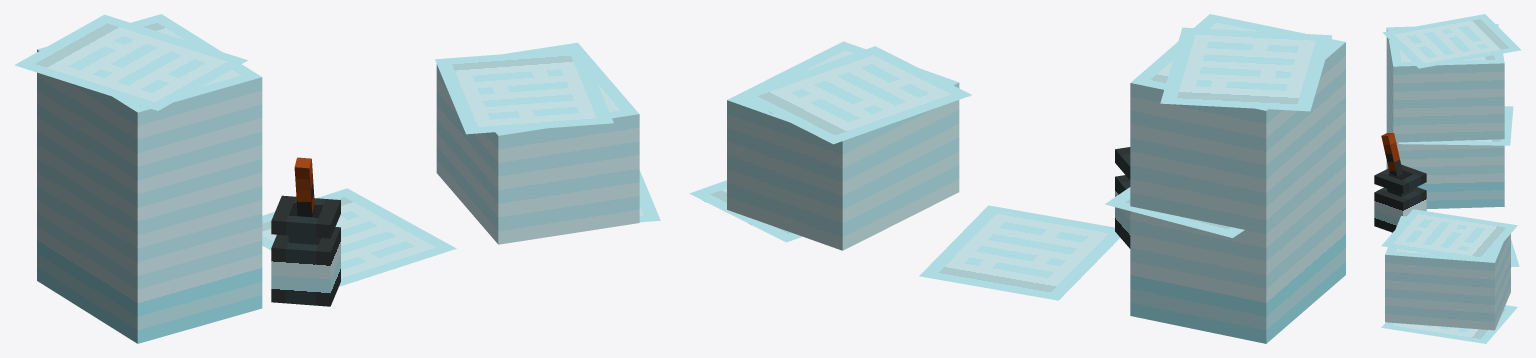
Rendered from paper_with_ink.glb.
3 views of the same model, side by side, from view 1: azimuth 30°, elevation 25°; view 2: azimuth 150°, elevation 25°; view 3: azimuth 270°, elevation 25° (orthographic). The views are drawn at different scales.
Parts seen in each view (by area): view 1: Object_8, Object_6, Object_12, Object_14, Object_18, cube_10, cube_8, cube_11, Object_16; view 2: Object_8, Object_6, Object_14, Object_12, Object_18, Object_10, Object_16, cube_10; view 3: Object_8, Object_6, Object_12, Object_14, cube_10, Object_16, cube_8, Object_10, cube_11, Object_18.
Boxes of the visible parts, x1,y1,x2,y2 form: Object_8: [37, 14, 262, 343]; Object_6: [436, 42, 639, 244]; Object_12: [14, 14, 247, 110]; Object_14: [435, 48, 613, 134]; Object_18: [262, 188, 456, 286]; cube_10: [271, 227, 340, 306]; cube_8: [271, 195, 340, 238]; cube_11: [294, 157, 314, 217]; Object_16: [639, 170, 660, 222]; Object_8: [1130, 14, 1345, 343]; Object_6: [727, 41, 959, 250]; Object_14: [736, 46, 971, 144]; Object_12: [1160, 27, 1332, 111]; Object_18: [919, 205, 1120, 300]; Object_10: [1105, 187, 1244, 238]; Object_16: [689, 180, 802, 242]; cube_10: [1115, 175, 1130, 248]; Object_8: [1386, 24, 1504, 208]; Object_6: [1385, 216, 1510, 330]; Object_12: [1382, 14, 1521, 68]; Object_14: [1381, 209, 1517, 262]; cube_10: [1374, 187, 1426, 232]; Object_16: [1381, 305, 1517, 343]; cube_8: [1374, 164, 1426, 193]; Object_10: [1398, 106, 1513, 145]; cube_11: [1381, 133, 1402, 176]; Object_18: [1511, 239, 1519, 267].
Size of the model in its own units: 2.96 by 1.06 by 0.9891.
1 material, 1 textured.
